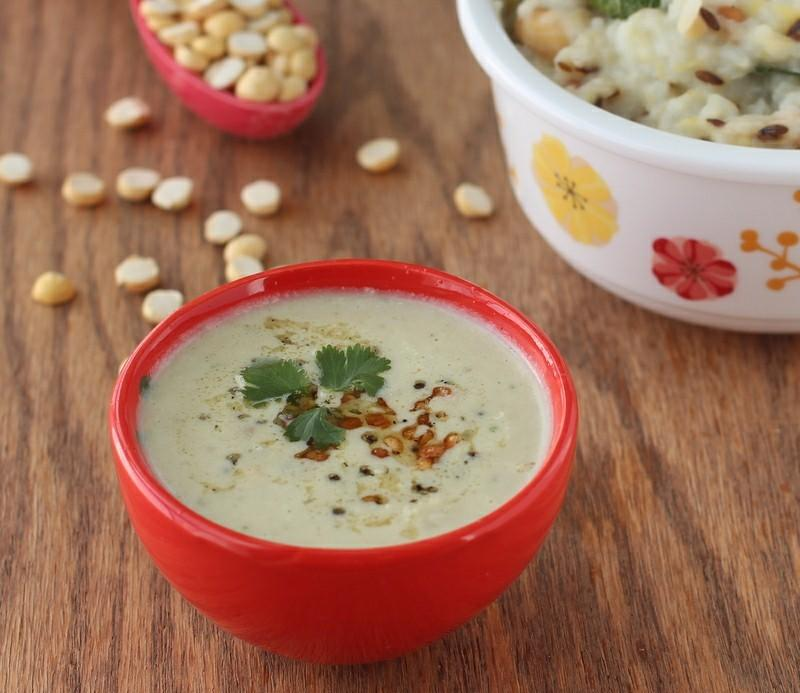CoconutChutney: (143, 291, 553, 554)
